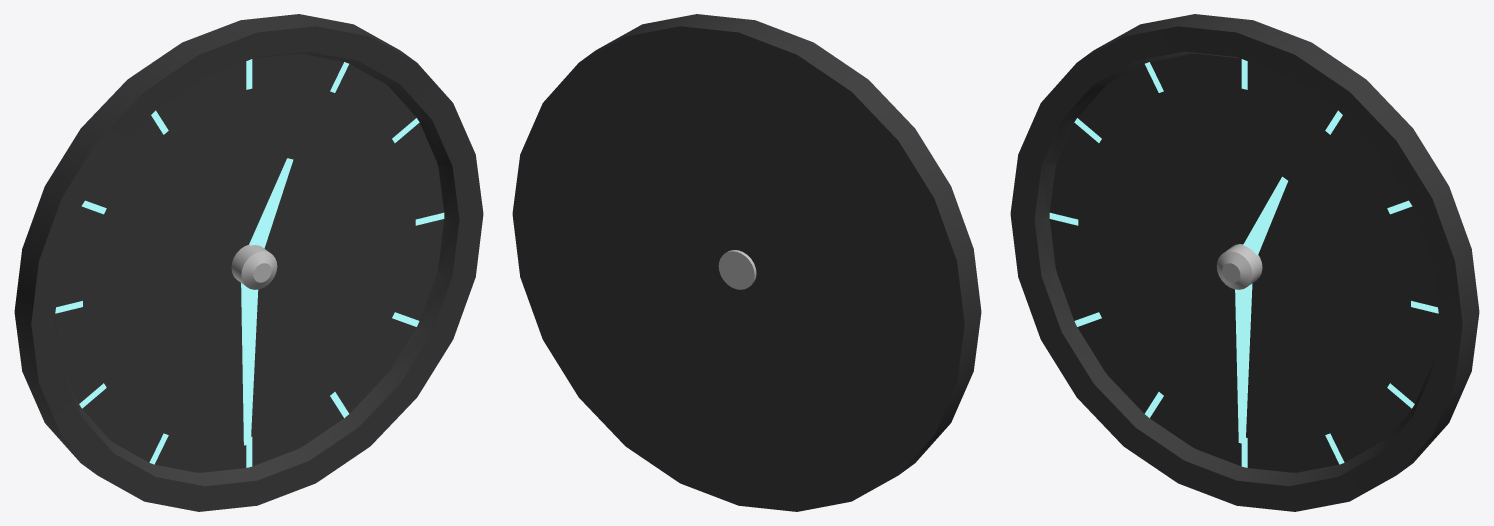
File: clock.fbx
The picture shows the model from 3 angles, left to right: view 1: azimuth 30°, elevation 25°; view 2: azimuth 150°, elevation 25°; view 3: azimuth 330°, elevation 25°; orthographic projection.
Parts seen in each view (by area): view 1: Cylinder.030_clock_0; view 2: Cylinder.030_clock_0; view 3: Cylinder.030_clock_0.
Boxes of the visible parts, x1,y1,x2,y2 form: Cylinder.030_clock_0: [14, 14, 483, 511]; Cylinder.030_clock_0: [512, 14, 981, 511]; Cylinder.030_clock_0: [1010, 14, 1479, 511].
Bounding box in the file's own units: 0.5332 × 0.5332 × 0.049.
